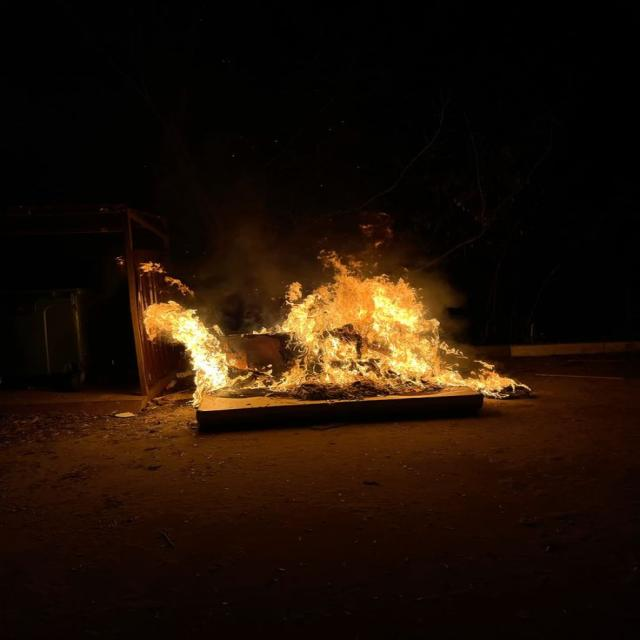fire: (282, 274, 432, 382), (145, 301, 229, 406), (434, 322, 531, 398)
